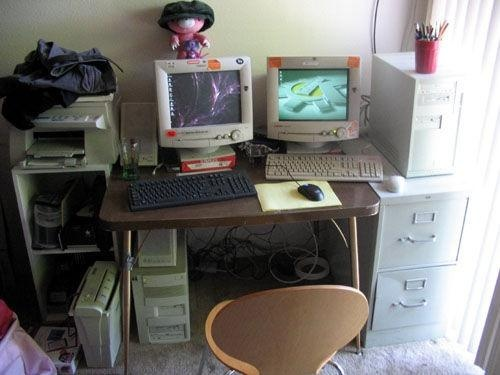chair: (204, 284, 370, 375)
tvmonitor: (154, 56, 256, 162), (266, 56, 361, 156)
